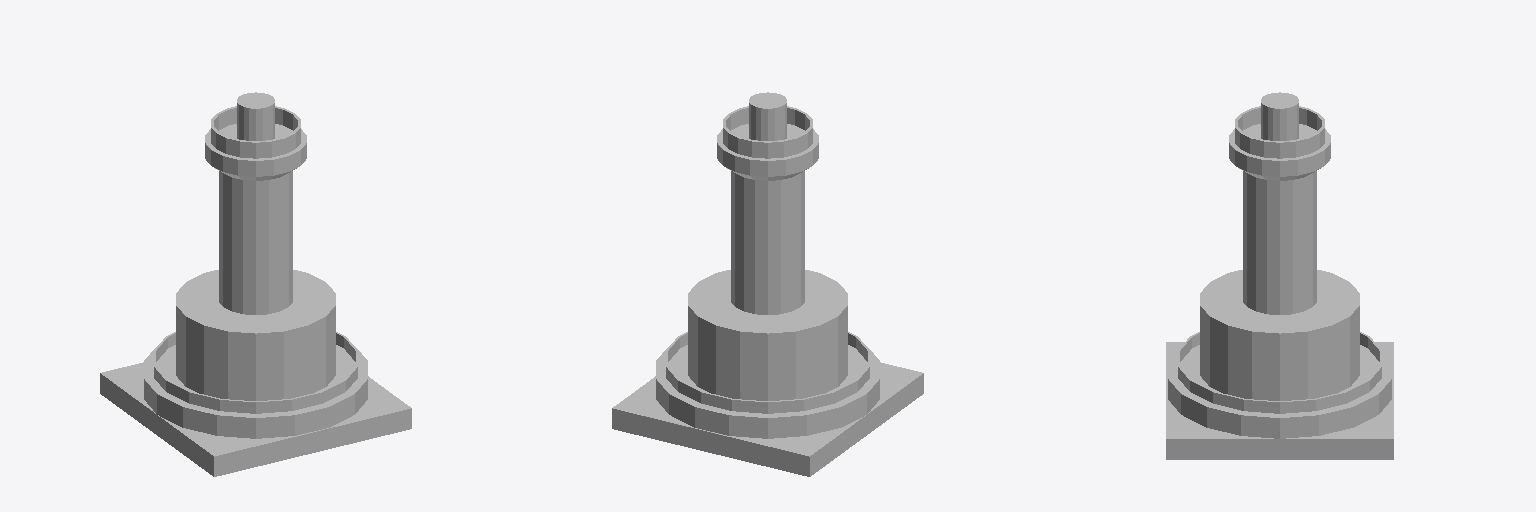
File: Monument.obj
3 renders of one model, left to right at view 1: azimuth 30°, elevation 25°; view 2: azimuth 150°, elevation 25°; view 3: azimuth 270°, elevation 25°, orthographic.
Visible parts, largest first — view 1: Cylinder003, Tilebase100; view 2: Cylinder003, Tilebase100; view 3: Cylinder003, Tilebase100.
Part boxes in pixels (x1,y1,x2,y2): Cylinder003: (144, 92, 367, 438); Tilebase100: (100, 362, 411, 476); Cylinder003: (656, 92, 879, 438); Tilebase100: (612, 362, 923, 476); Cylinder003: (1168, 92, 1391, 438); Tilebase100: (1166, 342, 1393, 459).
Bounding box in the file's own units: 10 × 15.01 × 10.